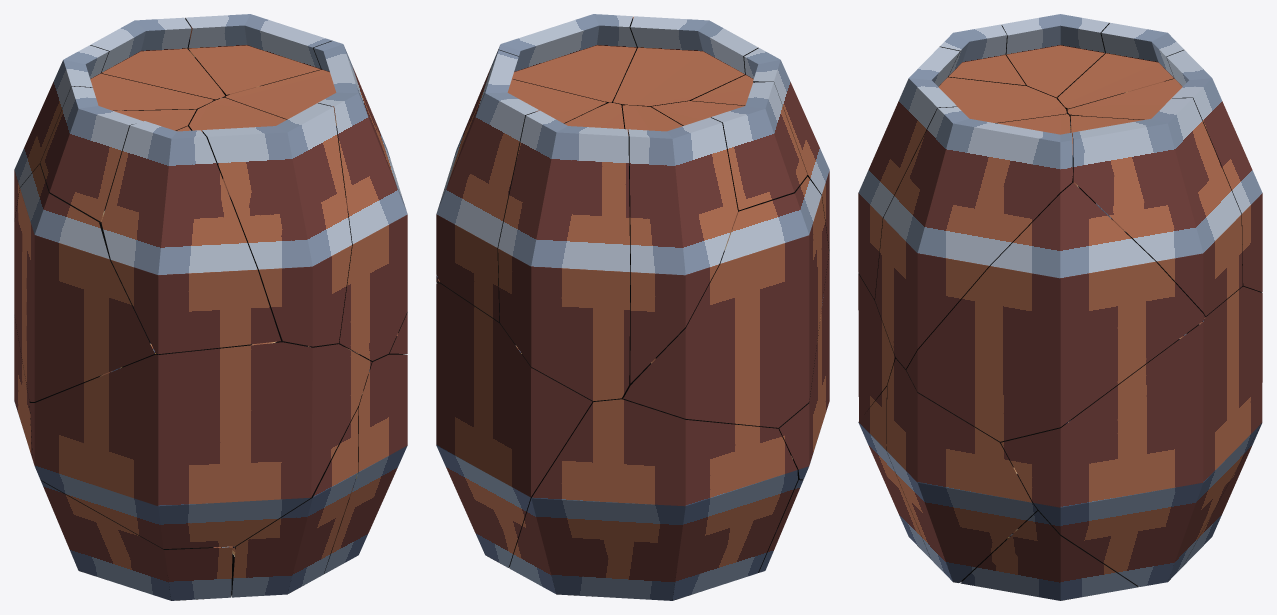
Rendered from barrel-fragmented.glb.
3 views of the same model, side by side, from view 1: azimuth 30°, elevation 25°; view 2: azimuth 150°, elevation 25°; view 3: azimuth 270°, elevation 25° (orthographic).
Parts seen in each view (by area): view 1: Barrel-frag-11-rigid, Barrel-frag-09-rigid, Barrel-frag-01-rigid, Barrel-frag-04-rigid, Barrel-frag-14-rigid, Barrel-frag-05-rigid, Barrel-frag-16-rigid, Barrel-frag-07-rigid, Barrel-frag-10-rigid, Barrel-frag-06-rigid, Barrel-frag-15-rigid, Barrel-frag-03-rigid (+2 smaller); view 2: Barrel-frag-13-rigid, Barrel-frag-03-rigid, Barrel-frag-04-rigid, Barrel-frag-12-rigid, Barrel-frag-15-rigid, Barrel-frag-06-rigid, Barrel-frag-01-rigid, Barrel-frag-07-rigid, Barrel-frag-14-rigid, Barrel-frag-09-rigid, Barrel-frag-11-rigid, Barrel-frag-05-rigid; view 3: Barrel-frag-12-rigid, Barrel-frag-02-rigid, Barrel-frag-14-rigid, Barrel-frag-06-rigid, Barrel-frag-10-rigid, Barrel-frag-01-rigid, Barrel-frag-03-rigid, Barrel-frag-08-rigid, Barrel-frag-07-rigid, Barrel-frag-15-rigid, Barrel-frag-11-rigid, Barrel-frag-09-rigid (+2 smaller).
Boxes of the visible parts, x1=… form: Barrel-frag-11-rigid: x1=29, y1=338, x2=371, y2=548; Barrel-frag-09-rigid: x1=101, y1=121, x2=280, y2=354; Barrel-frag-01-rigid: x1=189, y1=97, x2=351, y2=346; Barrel-frag-04-rigid: x1=14, y1=164, x2=155, y2=401; Barrel-frag-14-rigid: x1=225, y1=41, x2=407, y2=360; Barrel-frag-05-rigid: x1=40, y1=480, x2=232, y2=600; Barrel-frag-16-rigid: x1=231, y1=407, x2=358, y2=597; Barrel-frag-07-rigid: x1=40, y1=86, x2=196, y2=221; Barrel-frag-10-rigid: x1=324, y1=353, x2=407, y2=573; Barrel-frag-06-rigid: x1=185, y1=14, x2=332, y2=96; Barrel-frag-15-rigid: x1=14, y1=45, x2=213, y2=221; Barrel-frag-03-rigid: x1=90, y1=17, x2=225, y2=100; Barrel-frag-13-rigid: x1=509, y1=397, x2=797, y2=600; Barrel-frag-03-rigid: x1=498, y1=102, x2=630, y2=401; Barrel-frag-04-rigid: x1=622, y1=176, x2=828, y2=427; Barrel-frag-12-rigid: x1=436, y1=283, x2=594, y2=567; Barrel-frag-15-rigid: x1=622, y1=105, x2=737, y2=383; Barrel-frag-06-rigid: x1=436, y1=50, x2=606, y2=322; Barrel-frag-01-rigid: x1=613, y1=16, x2=758, y2=110; Barrel-frag-07-rigid: x1=651, y1=82, x2=807, y2=210; Barrel-frag-14-rigid: x1=484, y1=14, x2=637, y2=103; Barrel-frag-09-rigid: x1=691, y1=48, x2=829, y2=249; Barrel-frag-11-rigid: x1=776, y1=250, x2=829, y2=479; Barrel-frag-05-rigid: x1=758, y1=478, x2=803, y2=572; Barrel-frag-12-rigid: x1=1000, y1=286, x2=1262, y2=586; Barrel-frag-02-rigid: x1=906, y1=182, x2=1204, y2=441; Barrel-frag-14-rigid: x1=875, y1=107, x2=1072, y2=368; Barrel-frag-06-rigid: x1=1070, y1=98, x2=1242, y2=316; Barrel-frag-10-rigid: x1=886, y1=358, x2=1038, y2=582; Barrel-frag-01-rigid: x1=858, y1=47, x2=1066, y2=299; Barrel-frag-03-rigid: x1=1067, y1=50, x2=1262, y2=292; Barrel-frag-08-rigid: x1=960, y1=510, x2=1138, y2=600; Barrel-frag-07-rigid: x1=1001, y1=14, x2=1109, y2=98; Barrel-frag-15-rigid: x1=1057, y1=22, x2=1184, y2=112; Barrel-frag-11-rigid: x1=858, y1=273, x2=895, y2=420; Barrel-frag-09-rigid: x1=939, y1=24, x2=1025, y2=85.
Bounding box in the file's own units: 0.7988 × 1 × 0.7988.
Materials: 1 (1 with a texture image).
